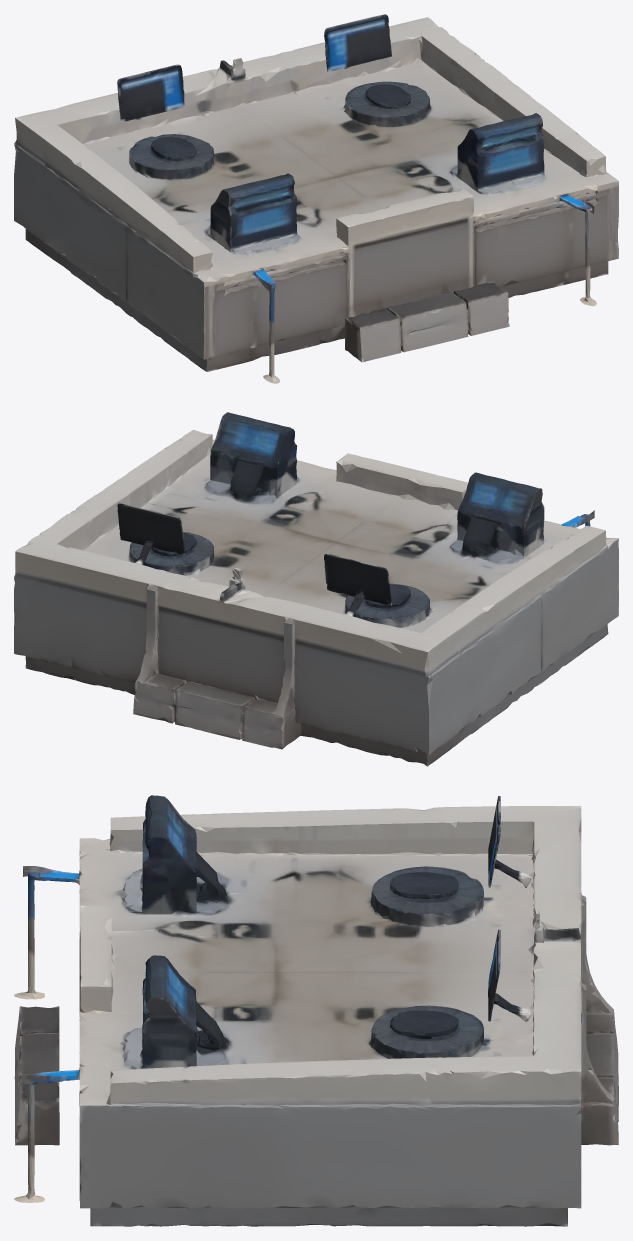
The model's file is checkin_booth.glb.
3 views of the same model, one above another, from view 1: azimuth 30°, elevation 25°; view 2: azimuth 150°, elevation 25°; view 3: azimuth 270°, elevation 25° (orthographic). The views are drawn at different scales.
Visible parts, largest first — view 1: Checkin_Booth; view 2: Checkin_Booth; view 3: Checkin_Booth.
Part boxes in pixels (x1,y1,x2,y2): Checkin_Booth: (14, 14, 618, 383); Checkin_Booth: (14, 412, 618, 766); Checkin_Booth: (14, 795, 618, 1226).
Bounding box in the file's own units: 1.9 × 0.7168 × 1.82.
1 material, 1 textured.
